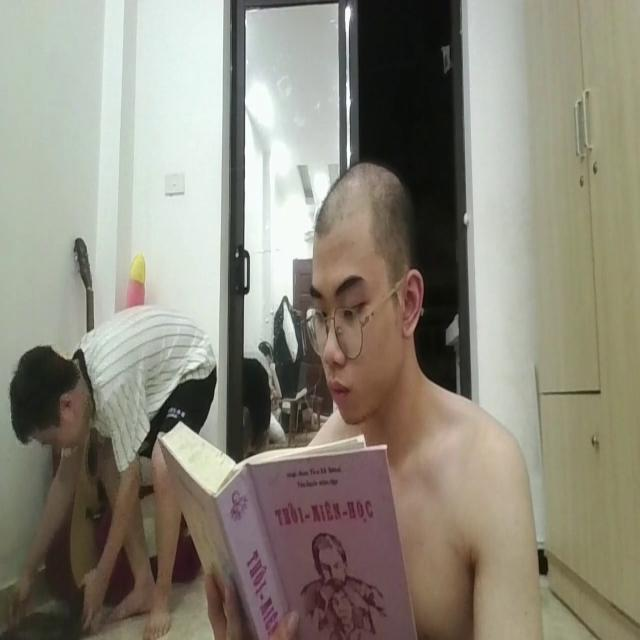book: (157, 406, 419, 640)
extra_person: (6, 308, 218, 640)
student: (296, 157, 540, 640)
